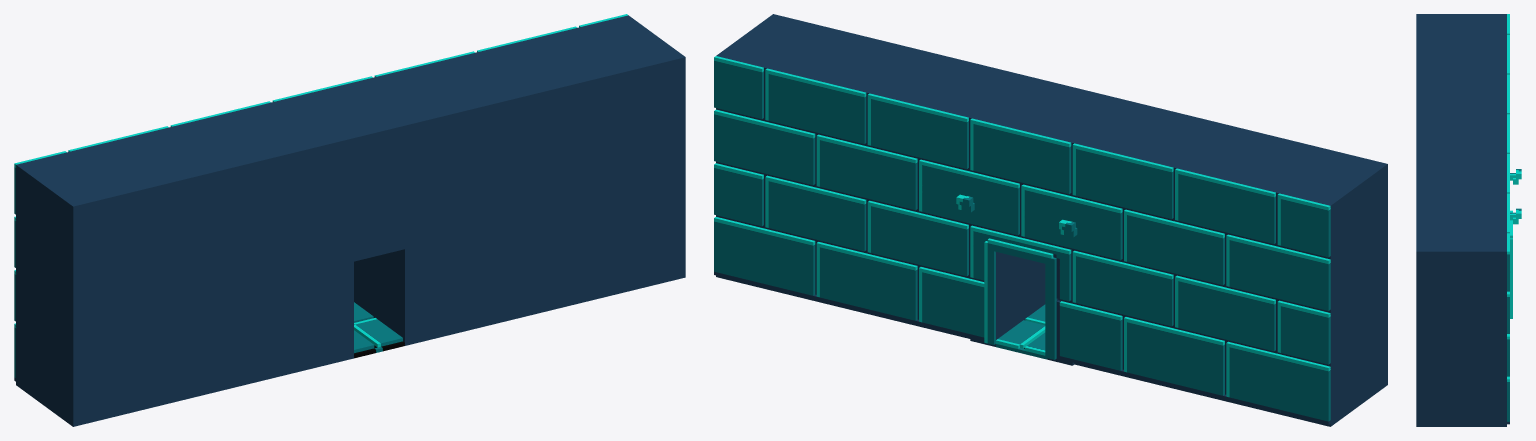
Rendered from SouthWallDoor.glb.
3 renders of one model, left to right at view 1: azimuth 30°, elevation 25°; view 2: azimuth 150°, elevation 25°; view 3: azimuth 270°, elevation 25°, orthographic. The views are drawn at different scales.
Parts seen in each view (by area): view 1: SouthWallDoor; view 2: SouthWallDoor; view 3: SouthWallDoor.
Part boxes in pixels (x1,y1,x2,y2): SouthWallDoor: [14, 14, 685, 426]; SouthWallDoor: [714, 14, 1387, 426]; SouthWallDoor: [1416, 14, 1521, 426].
Size of what is drawn, in the model's own units: 19.2 by 6.6 by 3.6.
1 material, 1 textured.
